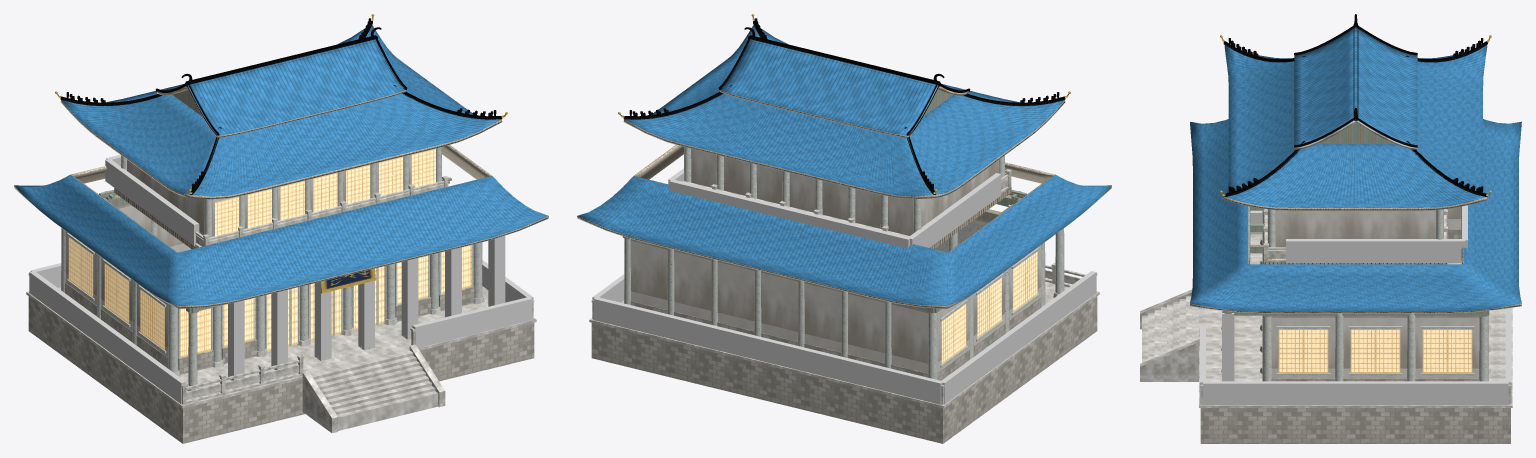
The model's file is hall_of_records.glb.
The picture shows the model from 3 angles, left to right: view 1: azimuth 30°, elevation 25°; view 2: azimuth 150°, elevation 25°; view 3: azimuth 270°, elevation 25°; orthographic projection.
Visible parts, largest first — view 1: RecordsLowSkirt, RecordsLowerRoof, RecordsPodiumBase, RecordsGable, RecordsLattice, RecordsStairsfront, RecordsPodiumCap, RecordsUpperLattice, RecordsColumns, RecordsRail-convcolonly.004, RecordsRail-convcolonly.001, RecordsFrames (+21 smaller); view 2: RecordsLowSkirt, RecordsLowerRoof, RecordsPodiumBase, RecordsWalls, RecordsGable, RecordsRail-convcolonly.003, RecordsUpperWalls, RecordsColumns, RecordsRail-convcolonly.004, RecordsLattice, RecordsBalconyRail-convcolonly.002, RecordsDado (+9 smaller); view 3: RecordsLowSkirt, RecordsLowerRoof, RecordsGable, RecordsPodiumBase, RecordsRail-convcolonly.002, RecordsLattice, RecordsPodiumCap, RecordsWalls, RecordsUpperWalls, RecordsBalconyRail-convcolonly.001, RecordsColumns, RecordsStairsfront (+13 smaller).
Part boxes in pixels (bbox=[...]): RecordsLowSkirt: bbox=[14, 145, 548, 308]; RecordsLowerRoof: bbox=[60, 25, 502, 199]; RecordsPodiumBase: bbox=[28, 296, 534, 443]; RecordsGable: bbox=[157, 39, 405, 137]; RecordsLattice: bbox=[68, 237, 471, 357]; RecordsStairsfront: bbox=[311, 350, 438, 430]; RecordsPodiumCap: bbox=[26, 286, 536, 408]; RecordsUpperLattice: bbox=[215, 148, 435, 236]; RecordsColumns: bbox=[61, 220, 482, 386]; RecordsRail-convcolonly.004: bbox=[29, 271, 186, 404]; RecordsRail-convcolonly.001: bbox=[412, 297, 532, 347]; RecordsFrames: bbox=[67, 233, 473, 358]; RecordsLowSkirt: bbox=[577, 145, 1111, 308]; RecordsLowerRoof: bbox=[623, 25, 1065, 199]; RecordsPodiumBase: bbox=[591, 296, 1097, 443]; RecordsWalls: bbox=[630, 218, 1040, 373]; RecordsGable: bbox=[720, 39, 968, 137]; RecordsRail-convcolonly.003: bbox=[593, 297, 942, 404]; RecordsUpperWalls: bbox=[691, 148, 998, 235]; RecordsColumns: bbox=[624, 228, 1064, 379]; RecordsRail-convcolonly.004: bbox=[940, 271, 1096, 404]; RecordsLattice: bbox=[941, 251, 1037, 364]; RecordsBalconyRail-convcolonly.002: bbox=[669, 179, 910, 248]; RecordsDado: bbox=[630, 297, 1041, 380]; RecordsLowSkirt: bbox=[1190, 119, 1521, 313]; RecordsLowerRoof: bbox=[1224, 45, 1487, 210]; RecordsGable: bbox=[1294, 27, 1417, 149]; RecordsPodiumBase: bbox=[1200, 408, 1510, 443]; RecordsRail-convcolonly.002: bbox=[1203, 381, 1508, 404]; RecordsLattice: bbox=[1278, 329, 1472, 373]; RecordsPodiumCap: bbox=[1199, 234, 1512, 407]; RecordsWalls: bbox=[1271, 206, 1479, 378]; RecordsUpperWalls: bbox=[1275, 210, 1435, 247]; RecordsBalconyRail-convcolonly.001: bbox=[1286, 239, 1464, 262]; RecordsColumns: bbox=[1262, 209, 1488, 381]; RecordsStairsfront: bbox=[1142, 296, 1198, 362].
Size of what is drawn, in the model's own units: 21.91 by 16.63 by 19.45.
13 materials, 13 textured.
